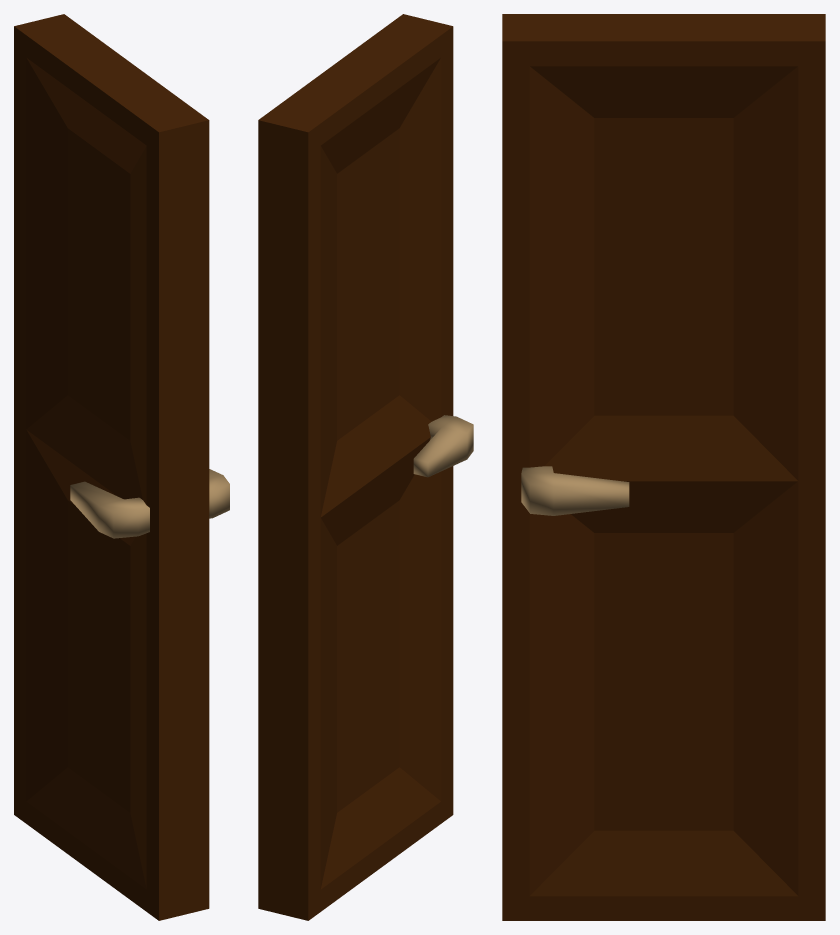
The model's file is door.glb.
3 renders of one model, left to right at view 1: azimuth 30°, elevation 25°; view 2: azimuth 150°, elevation 25°; view 3: azimuth 270°, elevation 25°, orthographic. The views are drawn at different scales.
Visible parts, largest first — view 1: Door, Cube.002, Cube.001; view 2: Door, Cube.002; view 3: Door, Cube.001.
Boxes of the visible parts, bbox=[...] form: Door: bbox=[14, 14, 209, 920]; Cube.002: bbox=[70, 481, 149, 538]; Cube.001: bbox=[209, 469, 229, 518]; Door: bbox=[258, 14, 453, 920]; Cube.002: bbox=[413, 415, 473, 477]; Door: bbox=[502, 14, 825, 920]; Cube.001: bbox=[521, 466, 629, 515].
Bounding box in the file's own units: 0.4953 × 3 × 1.
